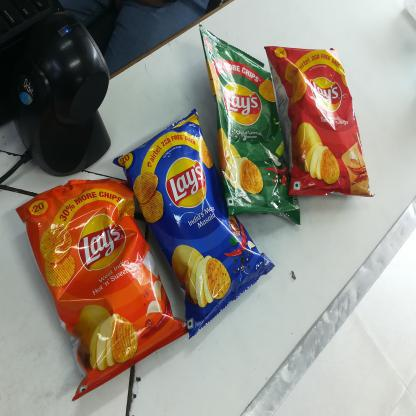chile_limon: (197, 23, 298, 230)
hot_and_sweet: (13, 177, 179, 391)
indian_magic_masala: (115, 109, 276, 338)
tangy_tomato: (267, 48, 374, 196)
